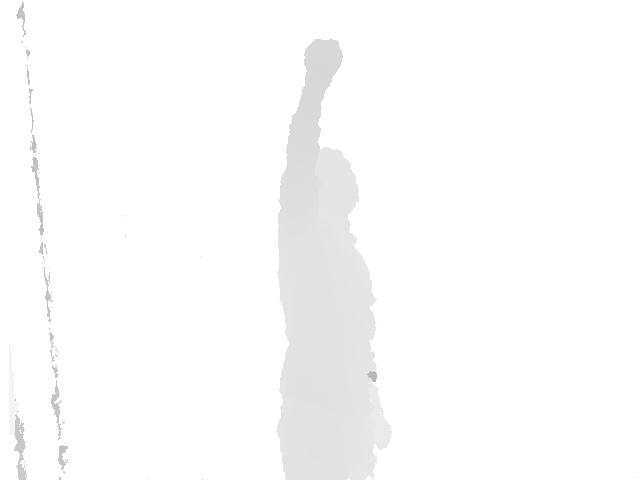hand: (303, 39, 344, 88)
hand_down: (370, 418, 392, 451)
head: (303, 145, 360, 220)
person: (275, 39, 391, 480)
